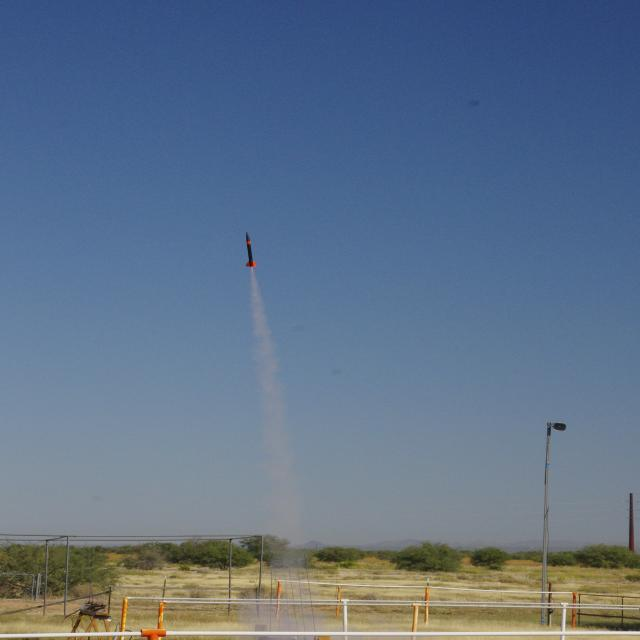Rocket: (245, 231, 257, 268)
